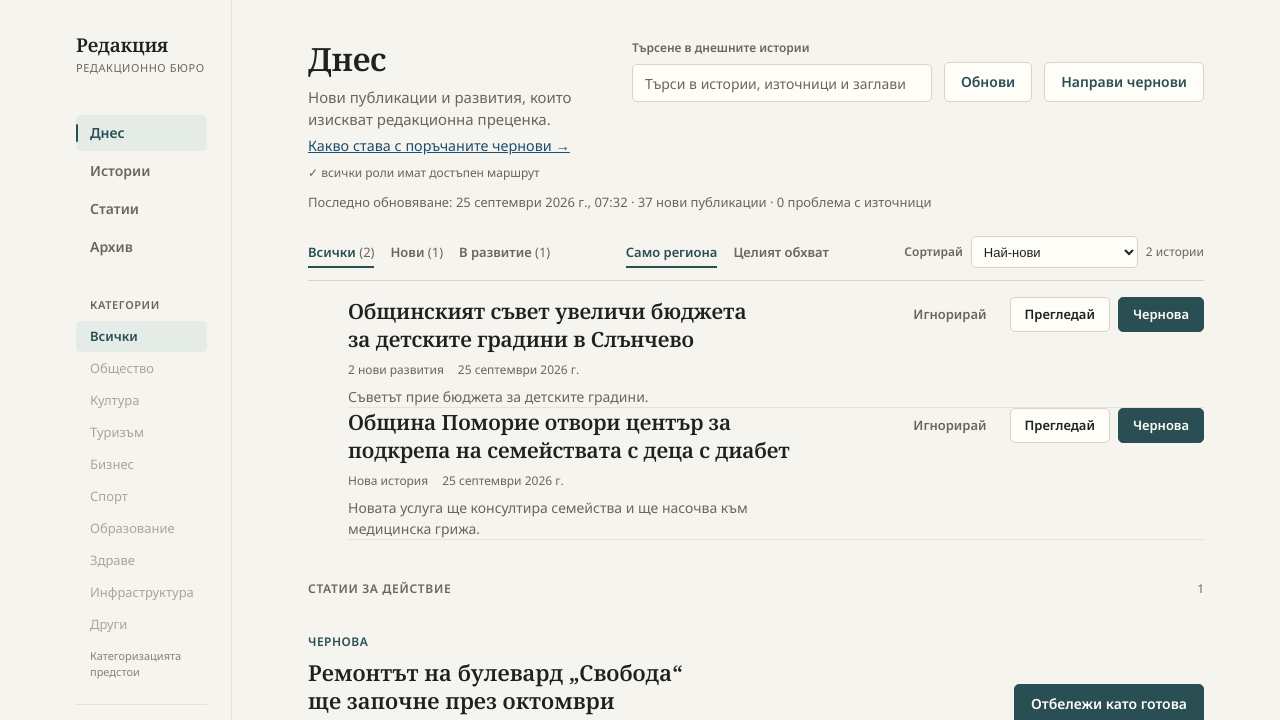
Test: state survives navigation › keeps the chosen tab, scope and sort when the editor leaves and returns
Click the button "Нови (1)" at (417, 252), box [390,237,443,267]
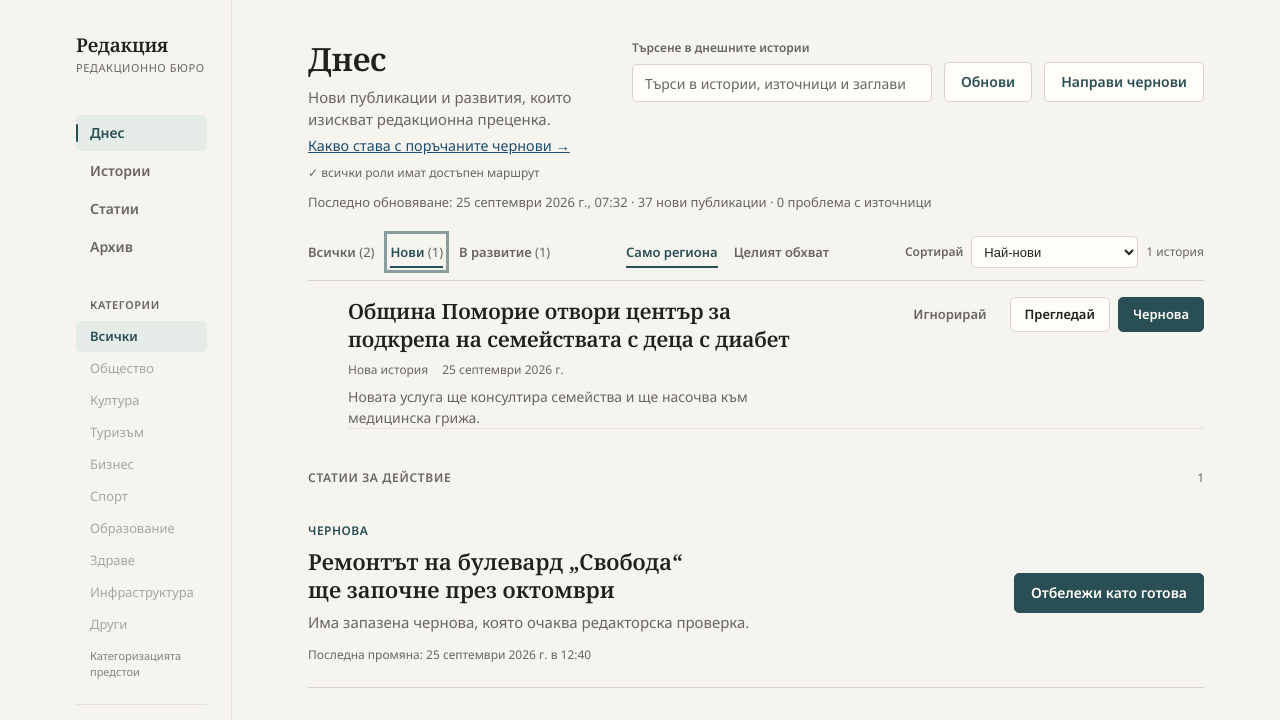
Select "Най-много източници" in the dropdown labelled "Сортирай" at (1055, 252), box [971,236,1138,268]
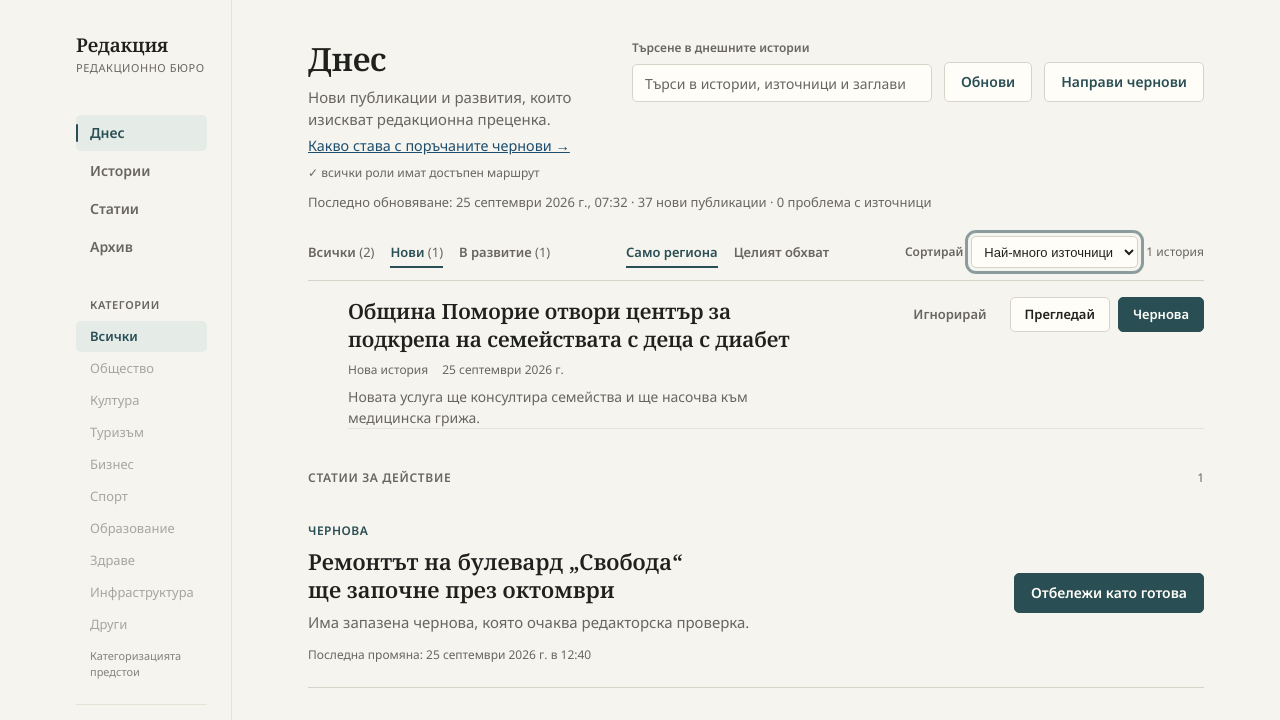
// Leave for two other destinations and come back.
Click the link "Истории" at (120, 170), box [90,161,150,180]
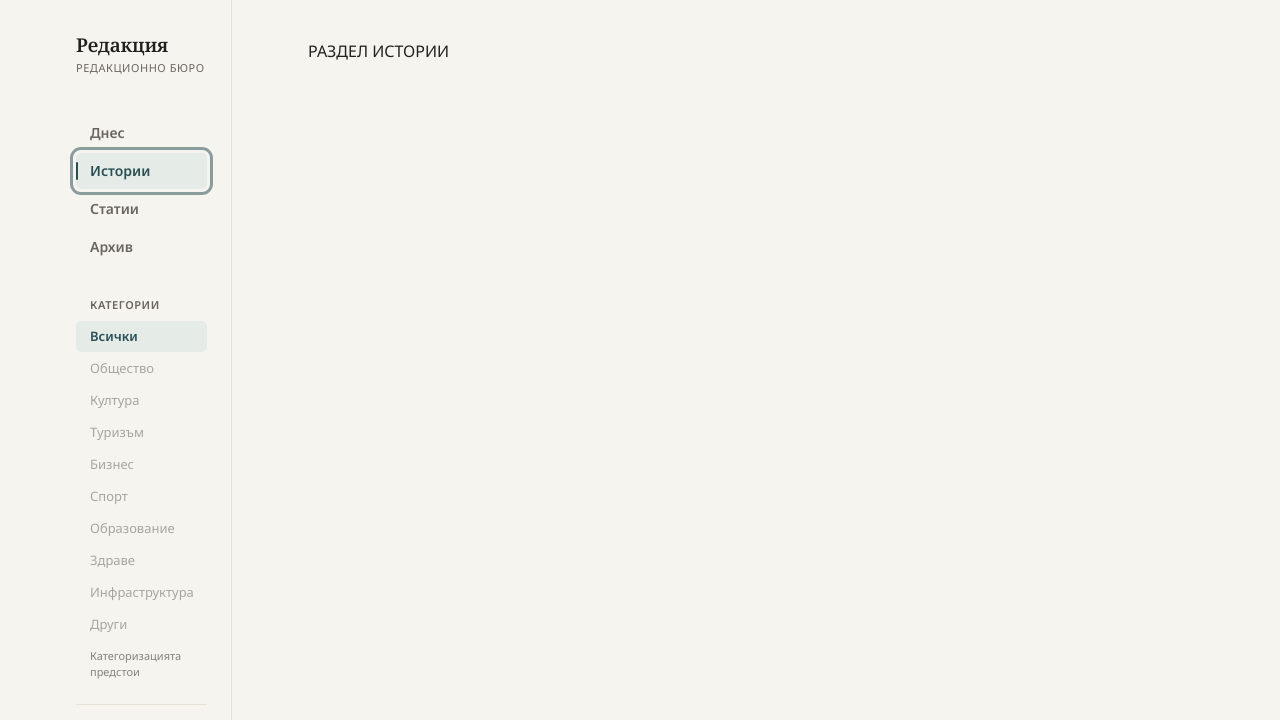
Check: the text "РАЗДЕЛ ИСТОРИИ" is shown, box [308,40,449,62]
Click the link "Статии" at (114, 208), box [90,199,139,218]
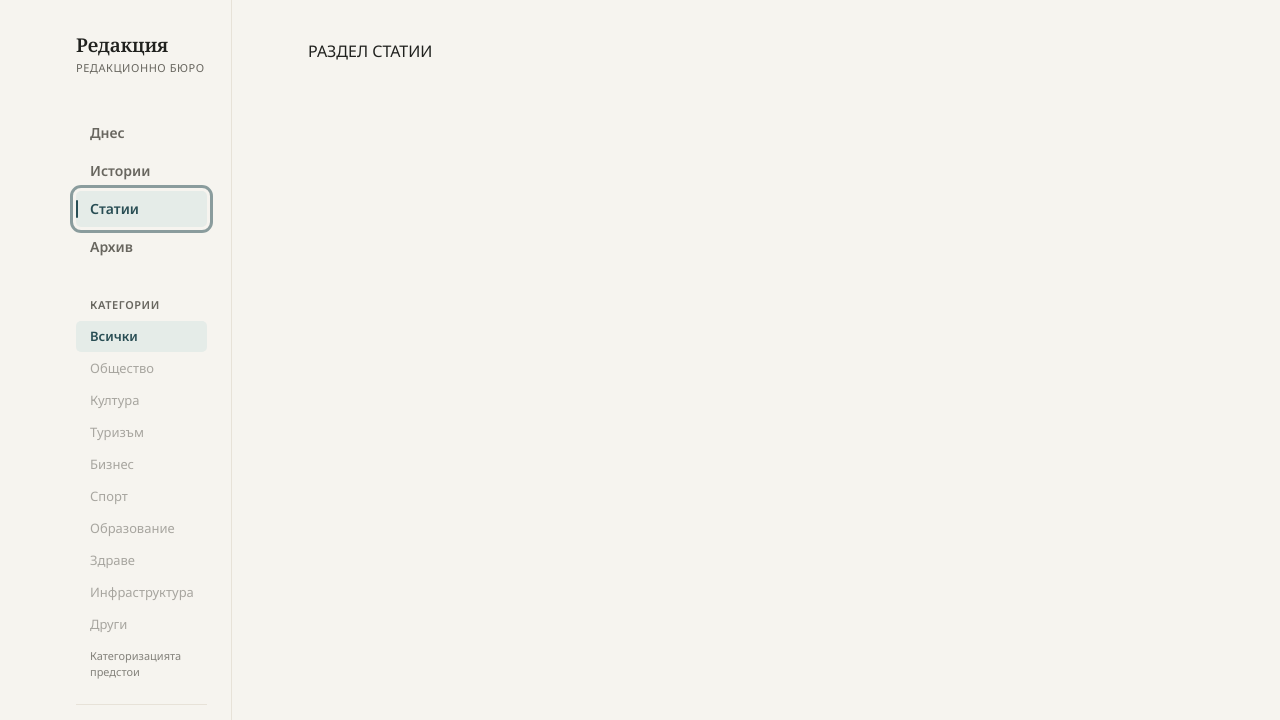
Check: the text "РАЗДЕЛ СТАТИИ" is shown, box [308,40,432,62]
Click the link "Днес" at (107, 132), box [90,123,125,142]
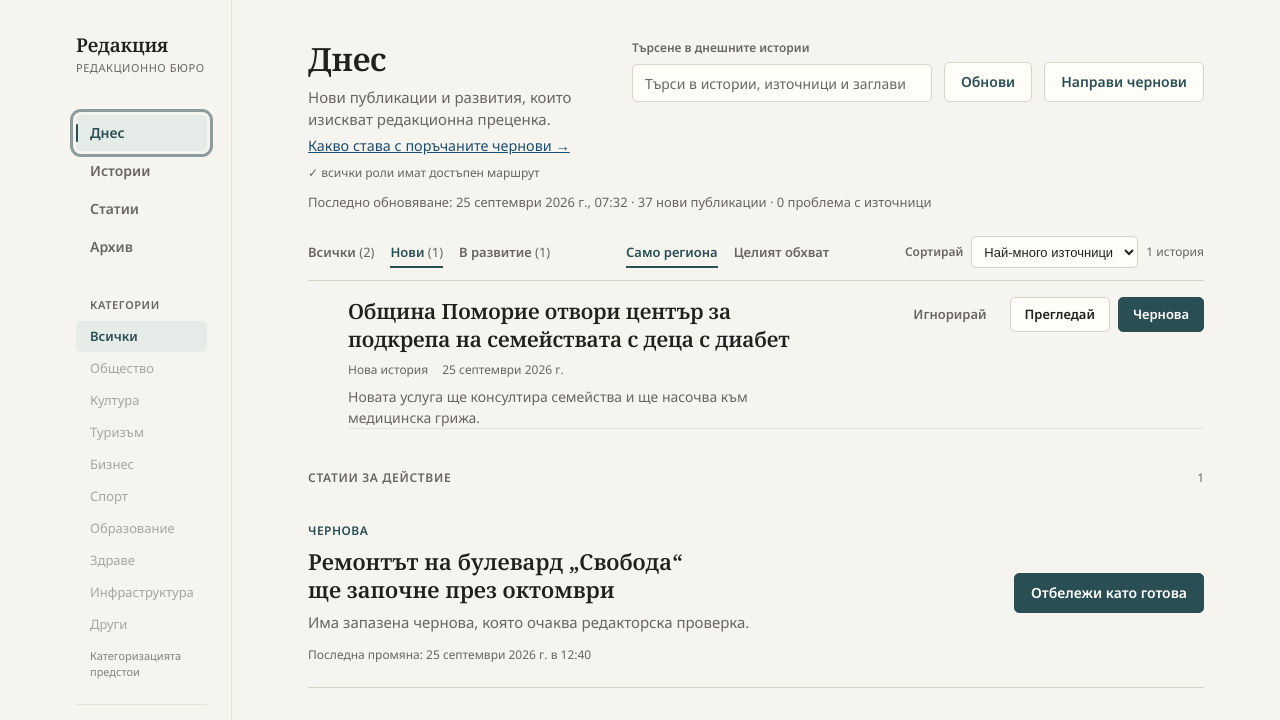
Check: the dropdown labelled "Сортирай" shows "Най-много източници", box [971,236,1138,268]
